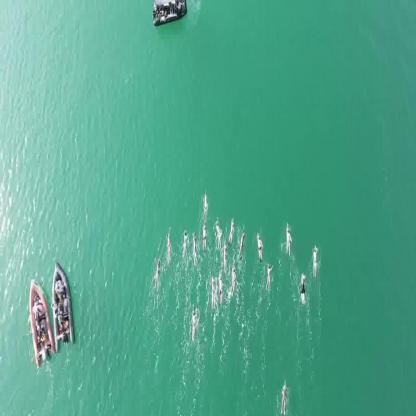Boat: (25, 274, 50, 364), (49, 262, 74, 352)
